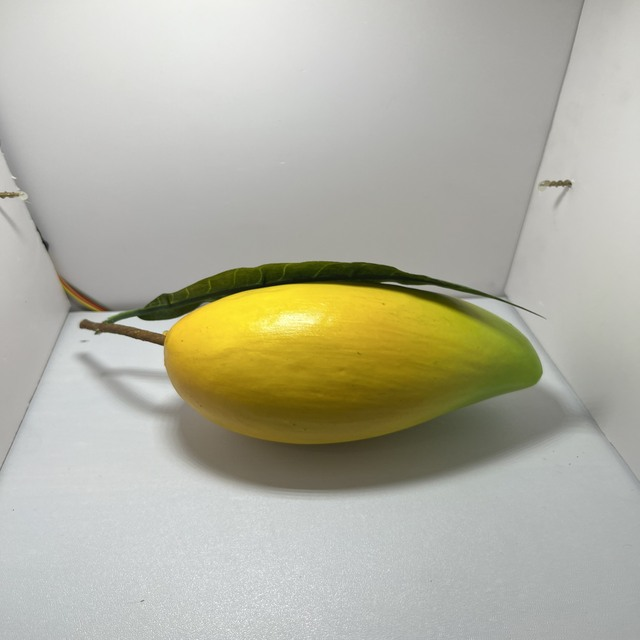Xoai: (153, 270, 554, 450)
